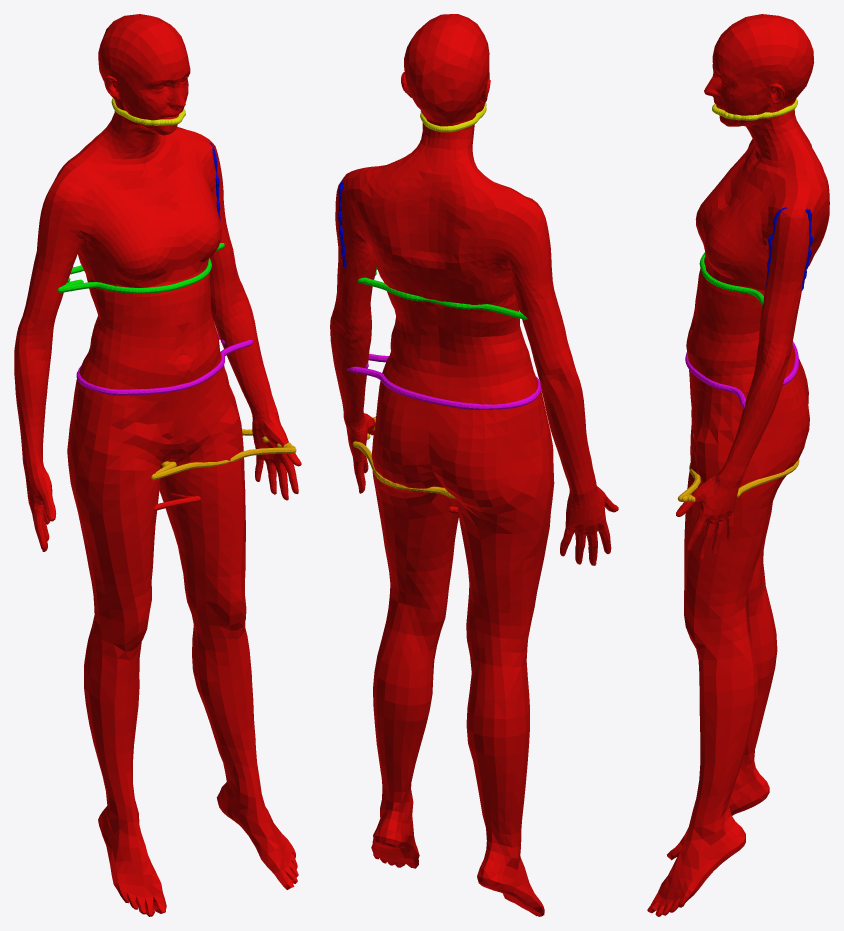
File: model_with_lines.glb
The picture shows the model from 3 angles, left to right: view 1: azimuth 30°, elevation 25°; view 2: azimuth 150°, elevation 25°; view 3: azimuth 270°, elevation 25°; orthographic projection. The views are drawn at different scales.
Bounding box in the file's own units: 0.5349 × 1.78 × 0.3431.
